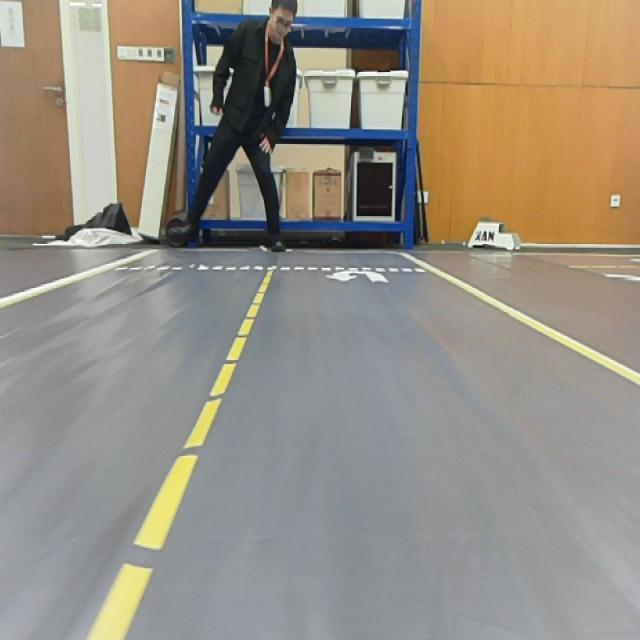left_lane: (86, 266, 275, 640)
right_lane: (409, 252, 640, 388), (0, 247, 150, 311)
